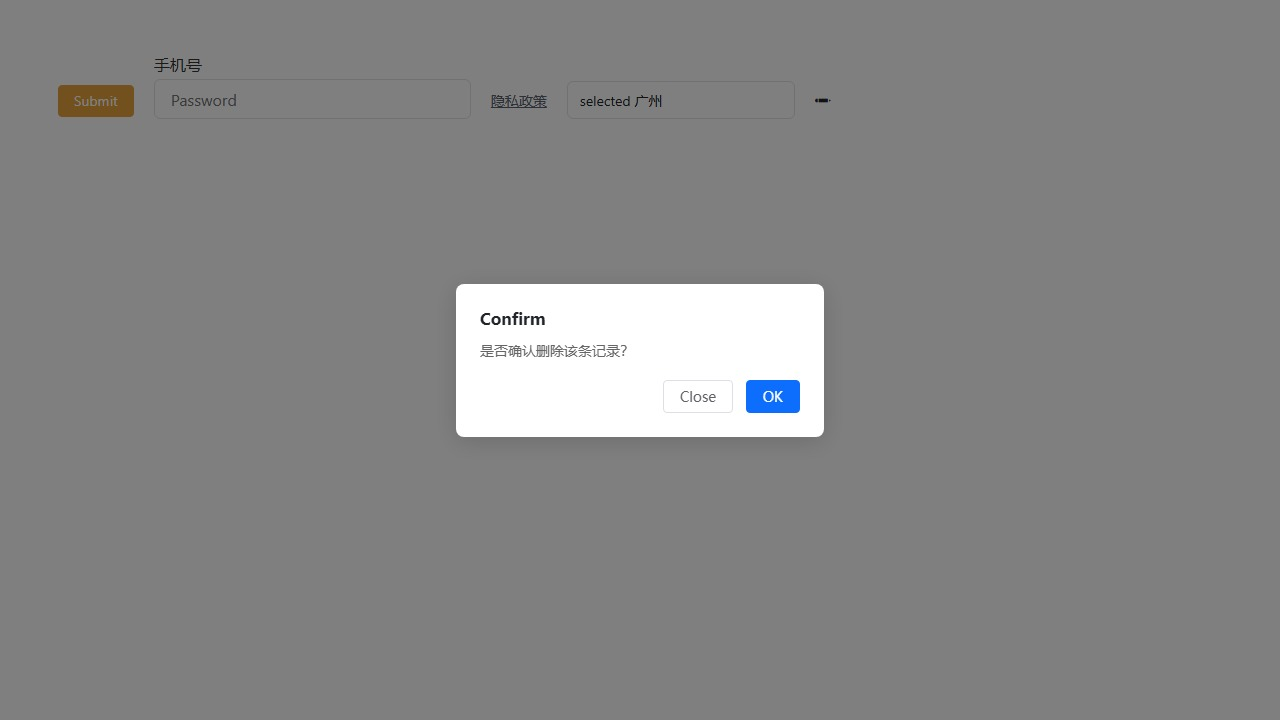button: (58, 84, 134, 116), (663, 380, 733, 412), (746, 380, 800, 412)
icon: (815, 91, 831, 107)
input: (154, 79, 471, 119)
link: (491, 91, 547, 110)
modal: (0, 0, 1280, 720)
select: (567, 81, 795, 119)
